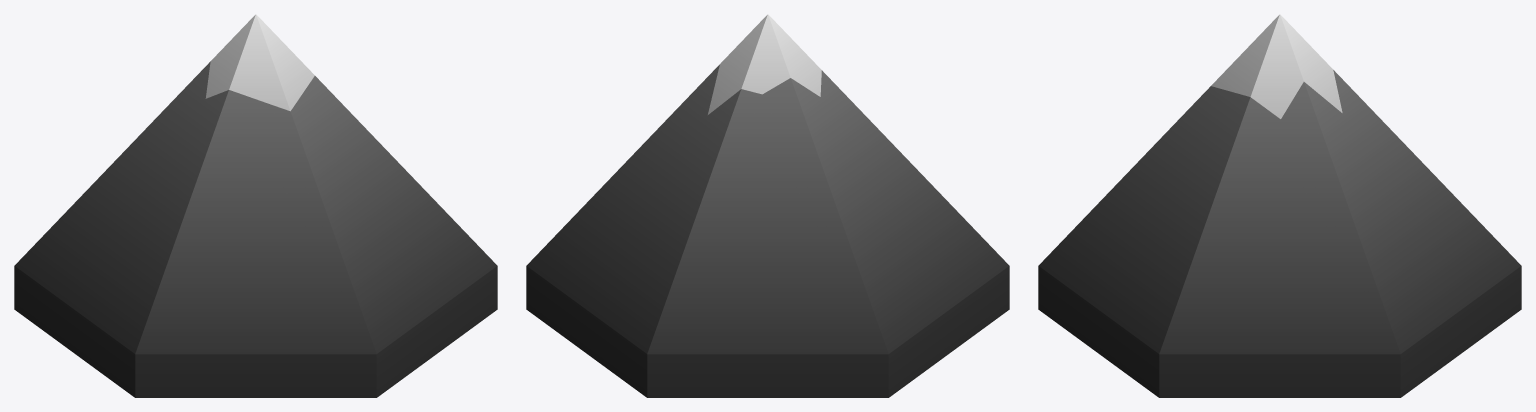
The model's file is Mountian tile.fbx.
The picture shows the model from 3 angles, left to right: view 1: azimuth 30°, elevation 25°; view 2: azimuth 150°, elevation 25°; view 3: azimuth 270°, elevation 25°; orthographic projection.
Visible parts, largest first — view 1: Mountain; view 2: Mountain; view 3: Mountain.
Part boxes in pixels (x1=…): Mountain: x1=14, y1=14, x2=497, y2=397; Mountain: x1=526, y1=14, x2=1009, y2=397; Mountain: x1=1038, y1=14, x2=1521, y2=397.
Bounding box in the file's own units: 1.73 × 1.35 × 2.
1 material, 1 textured.
